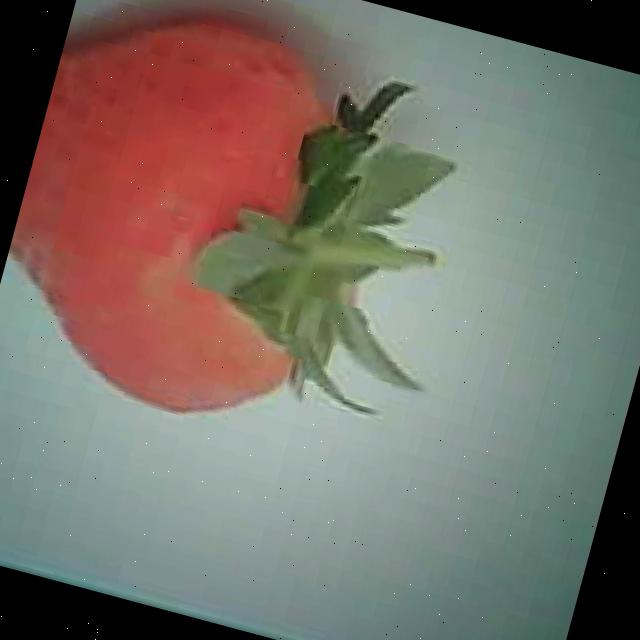strawberry: (0, 0, 420, 450)
